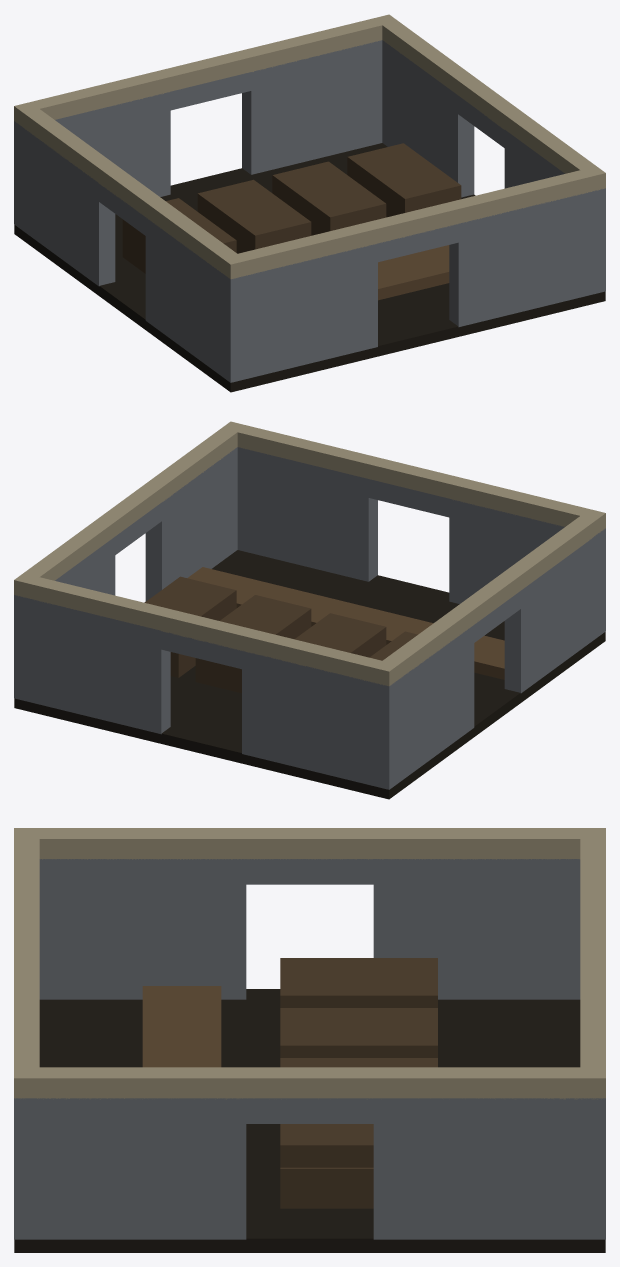
Rendered from StableBlock.fbx.
3 views of the same model, one above another, from view 1: azimuth 30°, elevation 25°; view 2: azimuth 150°, elevation 25°; view 3: azimuth 270°, elevation 25° (orthographic). The views are drawn at different scales.
Visible parts, largest first — view 1: StableBlock; view 2: StableBlock; view 3: StableBlock.
Boxes of the visible parts, box(x1,y1,x2,y2) form: StableBlock: box(14, 14, 605, 392); StableBlock: box(14, 421, 605, 799); StableBlock: box(14, 828, 605, 1252).
Bounding box in the file's own units: 1202 × 392 × 1202.
Materials: 5 (5 with a texture image).
